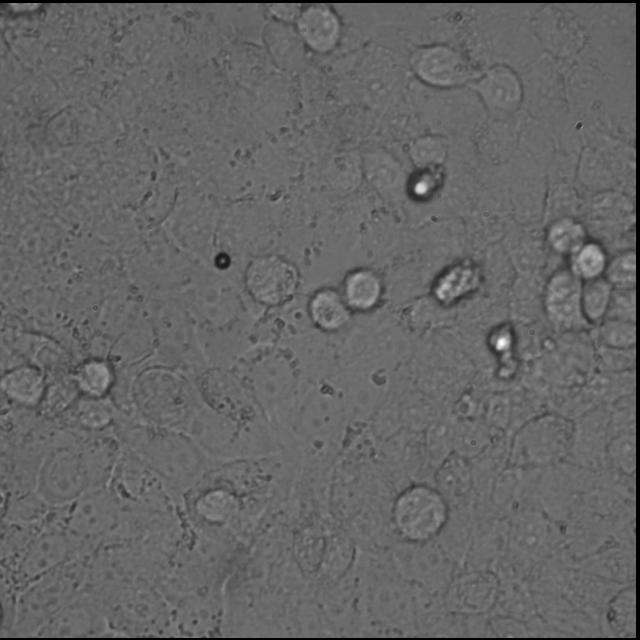microbeads: (212, 248, 234, 274)
